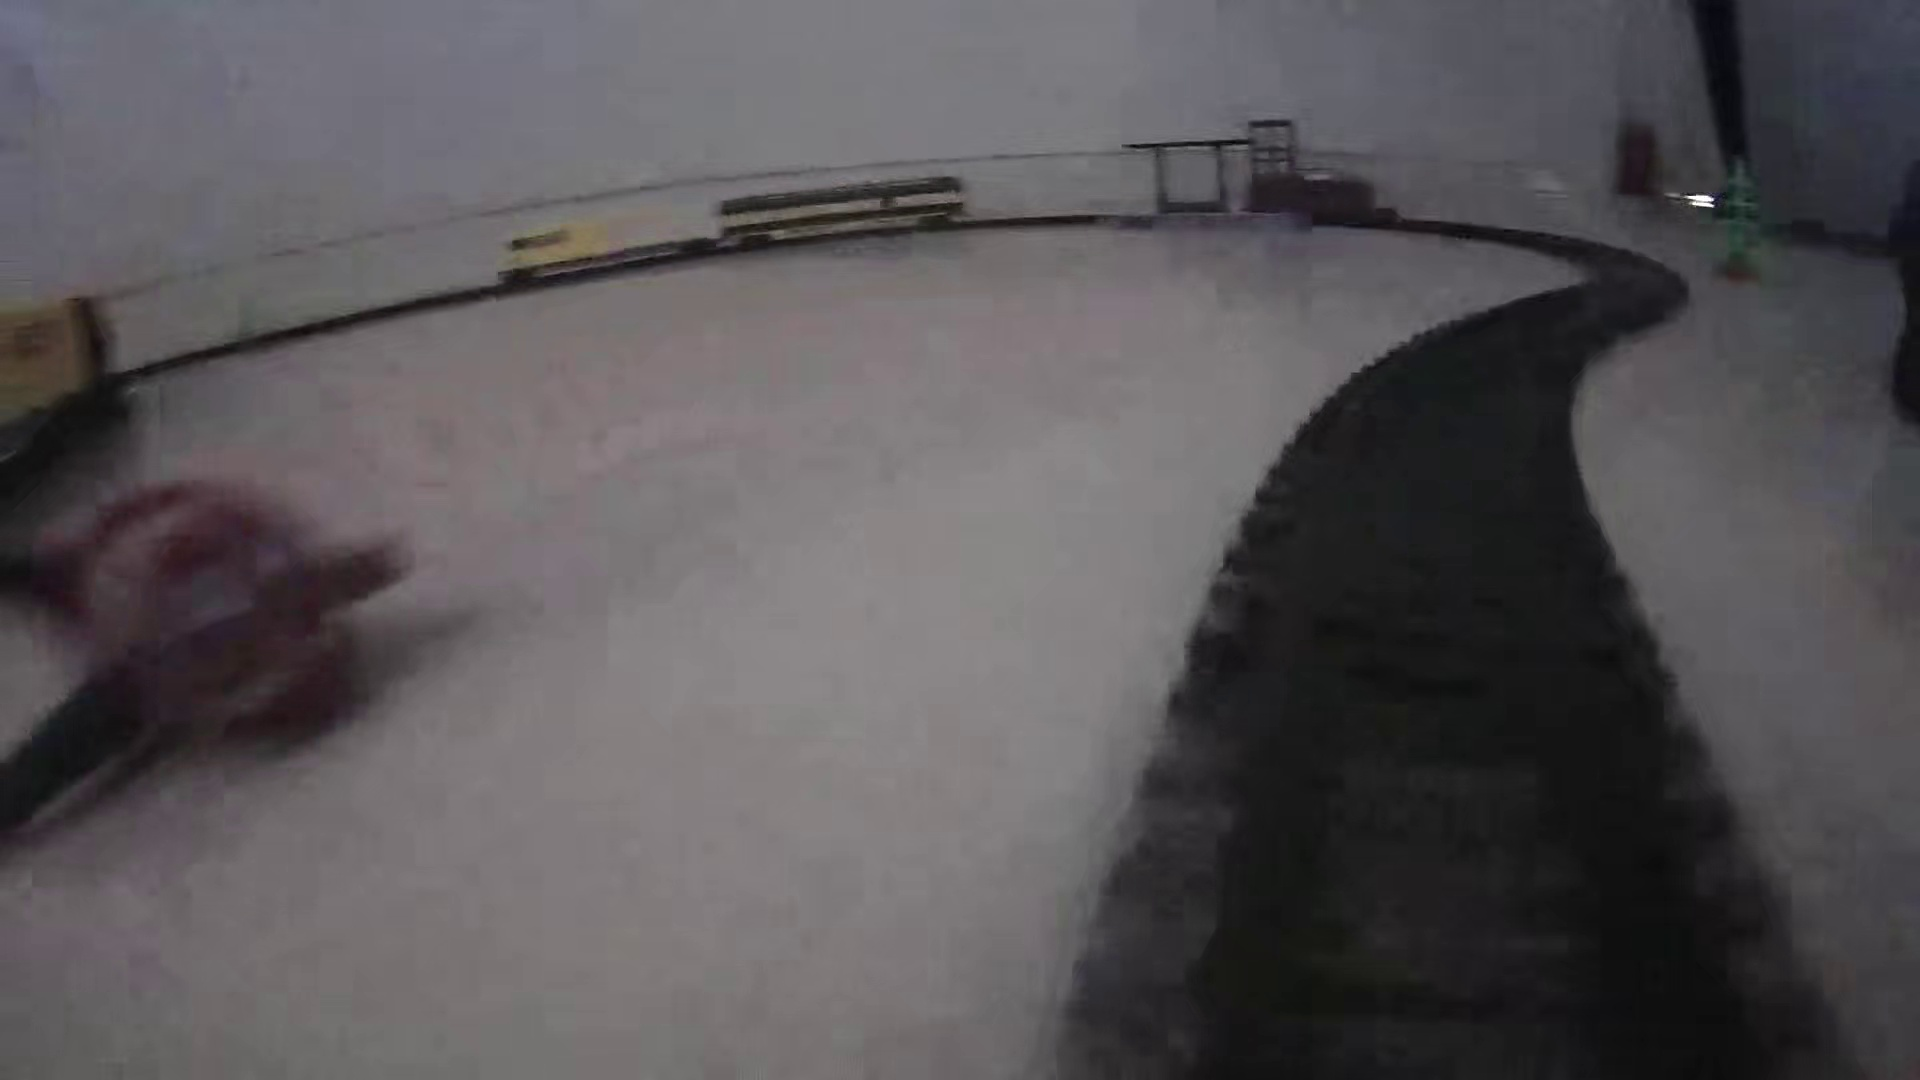people: (1, 459, 410, 845)
tree: (1712, 159, 1769, 288)
